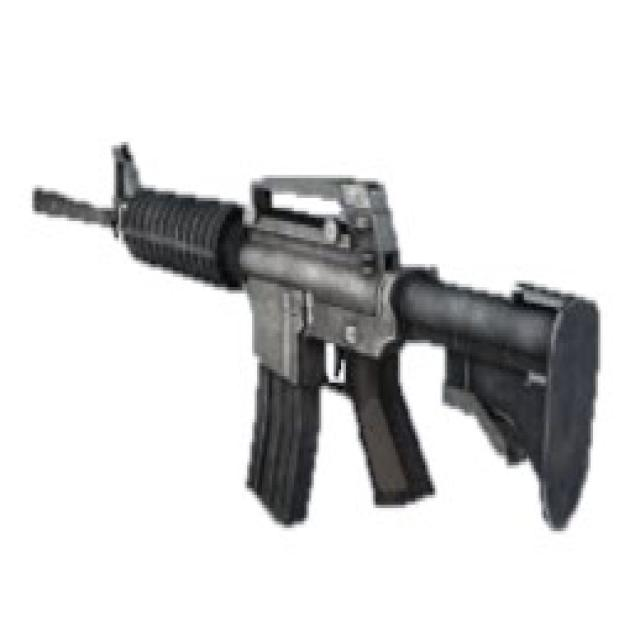rifle: (26, 125, 615, 563)
